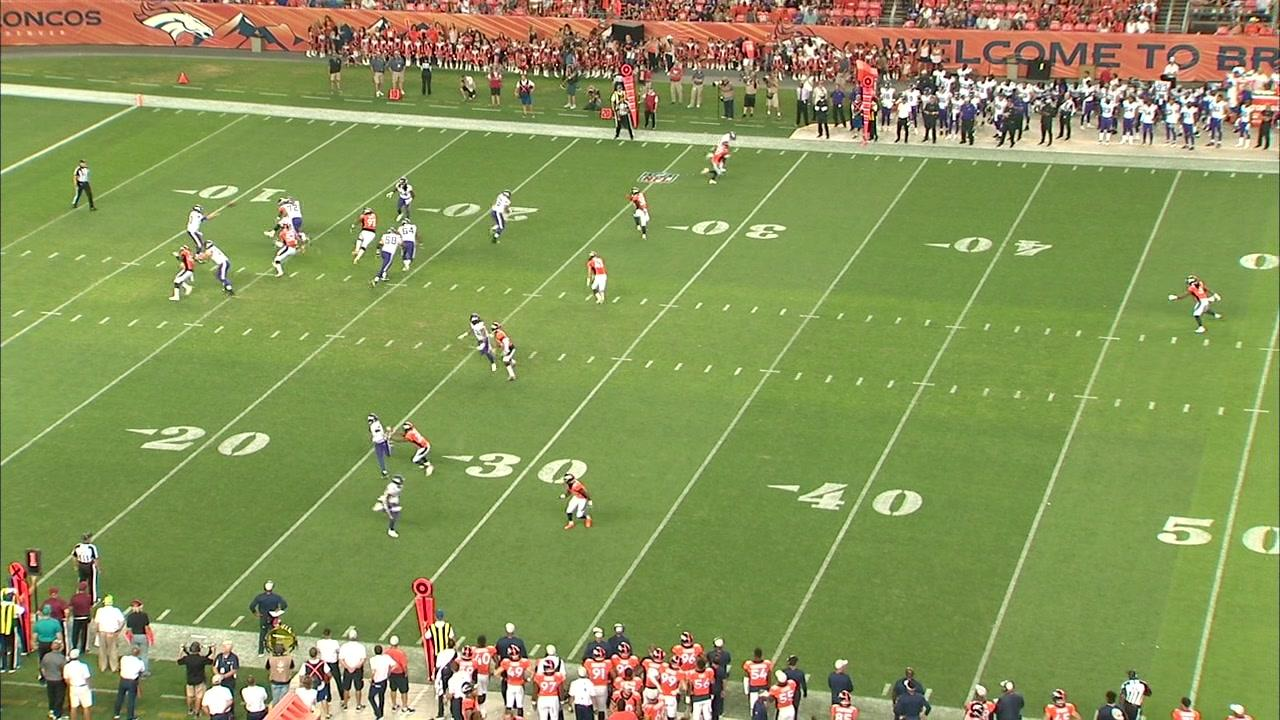five_hash: (39, 310, 62, 317), (1244, 408, 1270, 413), (183, 322, 204, 328), (325, 333, 345, 339), (1098, 336, 1121, 341), (610, 357, 632, 362), (798, 314, 820, 319), (120, 261, 141, 266), (255, 271, 276, 276), (522, 293, 542, 298), (659, 303, 679, 308), (1073, 395, 1098, 399), (384, 283, 408, 287), (912, 382, 935, 386), (759, 369, 781, 373), (945, 325, 966, 329), (1260, 347, 1280, 351)
hash: (241, 326, 254, 337), (212, 324, 225, 335), (126, 317, 139, 328), (11, 308, 25, 318), (99, 315, 111, 326), (70, 313, 82, 324), (298, 331, 311, 341), (948, 384, 959, 395), (855, 375, 865, 387), (672, 361, 684, 371), (270, 329, 282, 339), (156, 319, 168, 329), (73, 253, 87, 261), (721, 302, 732, 312), (777, 307, 788, 317), (922, 317, 932, 328), (1234, 339, 1244, 350), (1112, 397, 1122, 408), (1046, 392, 1057, 402), (824, 373, 834, 384), (793, 370, 803, 381), (644, 359, 655, 369), (556, 352, 567, 362), (413, 340, 424, 350), (355, 336, 366, 346), (315, 272, 327, 281), (1182, 402, 1191, 414), (383, 339, 395, 348), (19, 249, 32, 257), (47, 251, 60, 259), (981, 387, 991, 397), (886, 379, 896, 389), (733, 366, 743, 376), (703, 363, 713, 373), (102, 255, 113, 264), (864, 314, 875, 323), (1217, 405, 1226, 416), (1147, 399, 1156, 410), (527, 350, 538, 359), (421, 281, 433, 289), (448, 283, 460, 291), (343, 274, 353, 283), (476, 284, 486, 293), (639, 297, 649, 306), (750, 304, 759, 314), (982, 322, 992, 331), (1012, 325, 1022, 334), (1043, 326, 1052, 336), (1073, 329, 1083, 338), (1137, 333, 1147, 342), (1013, 390, 1022, 400), (586, 355, 596, 364), (441, 343, 451, 352), (288, 270, 299, 278), (154, 260, 166, 267), (503, 287, 512, 296), (558, 290, 567, 299), (612, 296, 622, 304), (893, 316, 903, 324), (1170, 335, 1178, 345), (695, 301, 703, 310), (836, 312, 845, 320), (1202, 338, 1211, 346), (236, 266, 246, 273), (585, 294, 594, 301)
marker: (412, 578, 435, 680), (9, 562, 33, 654), (619, 64, 637, 129), (862, 76, 873, 142)
number: (796, 476, 929, 523), (140, 419, 275, 465), (460, 449, 593, 489), (953, 228, 1056, 262), (688, 216, 789, 243)
player: (136, 94, 143, 107)
